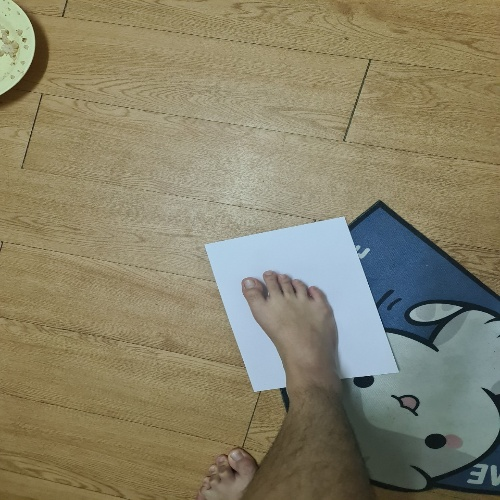Top_Foot: (183, 208, 422, 407)
